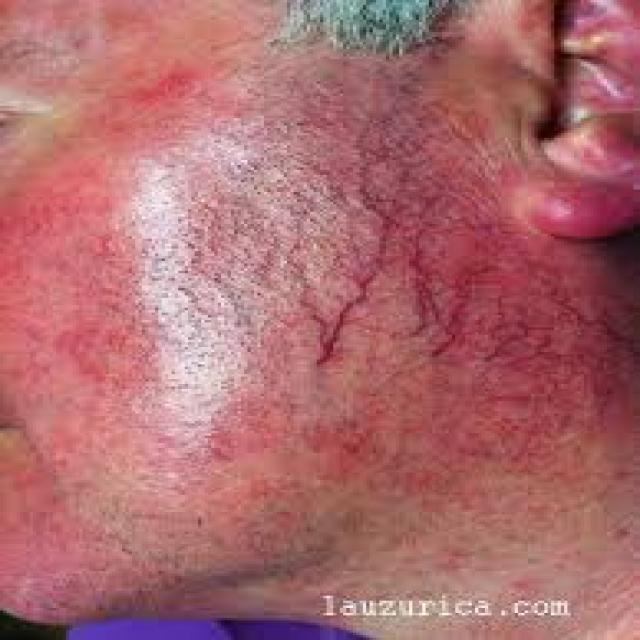Rosacea: (0, 67, 634, 584)
